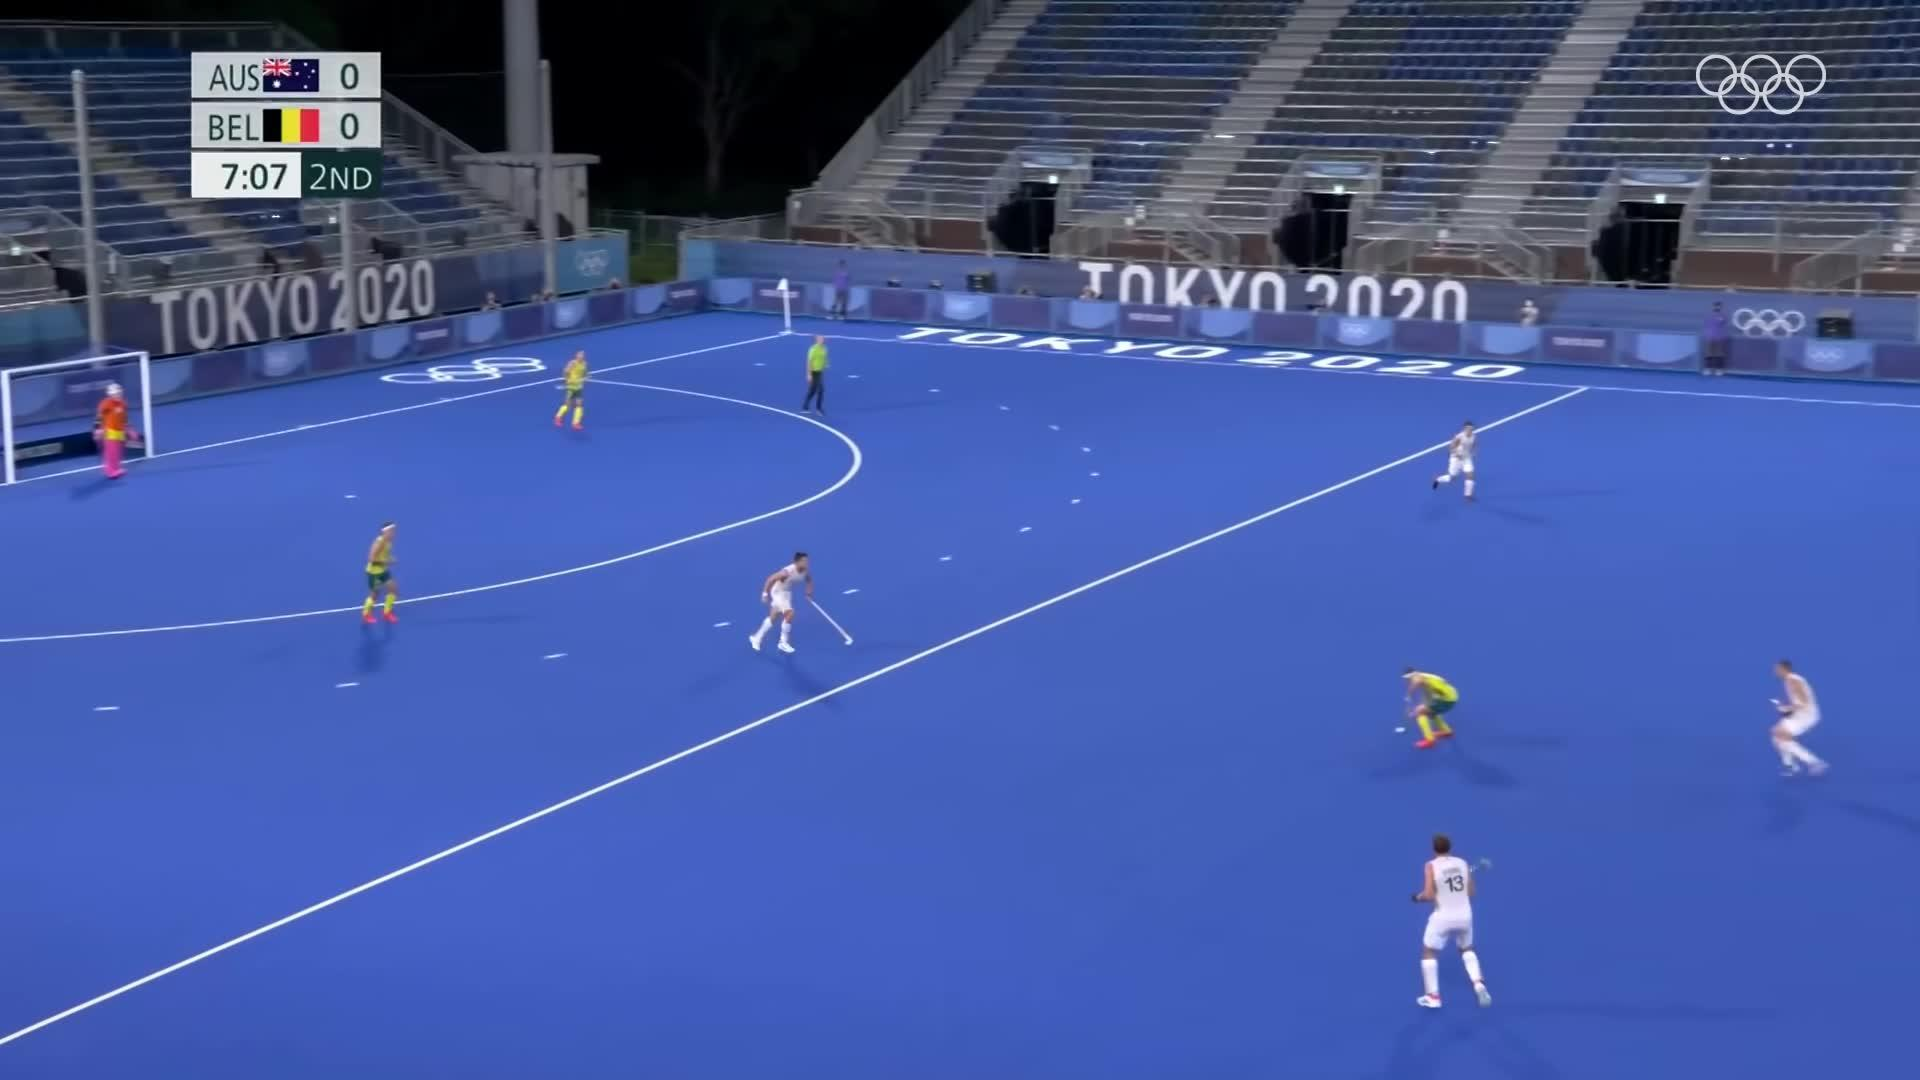ball: (1386, 717, 1417, 737)
